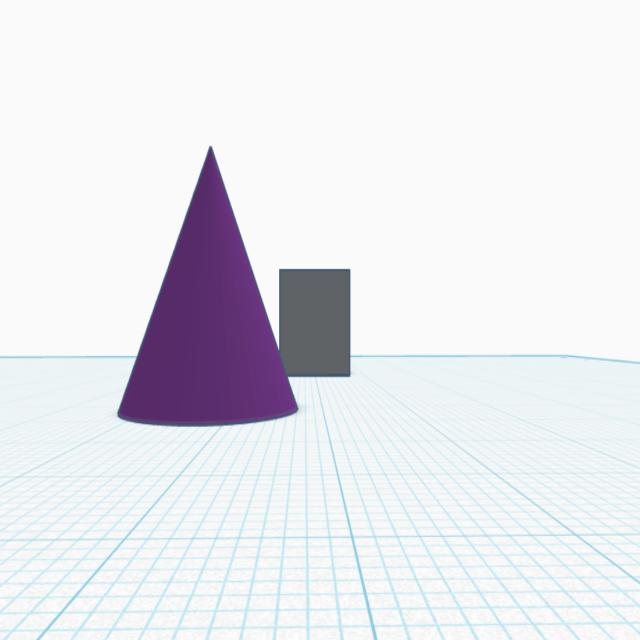cone: (114, 139, 301, 430)
cube: (276, 257, 354, 384)
